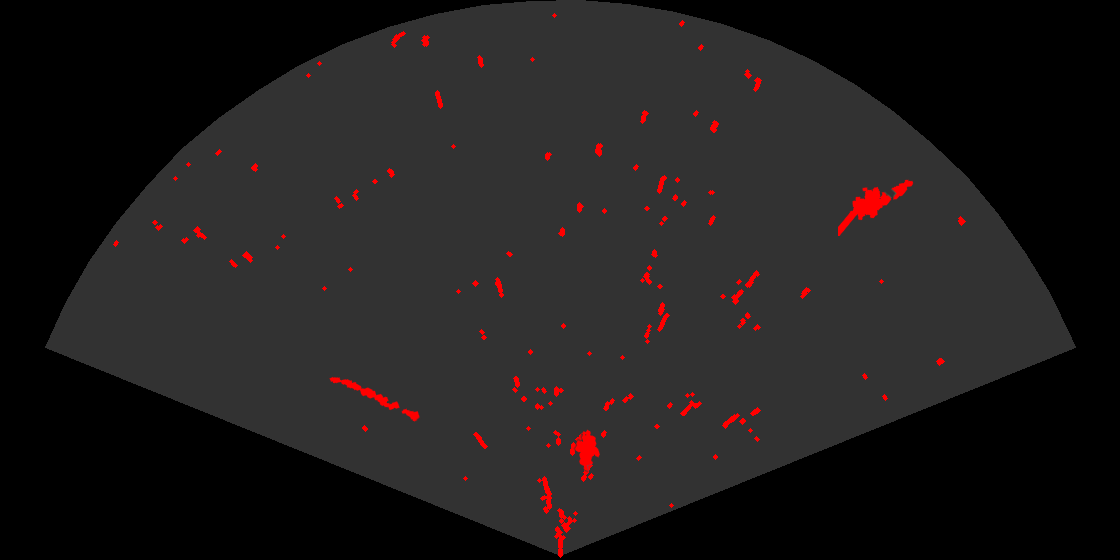AUV: (573, 428, 601, 473)
chain: (328, 375, 422, 423)
frogman: (838, 178, 915, 236)
